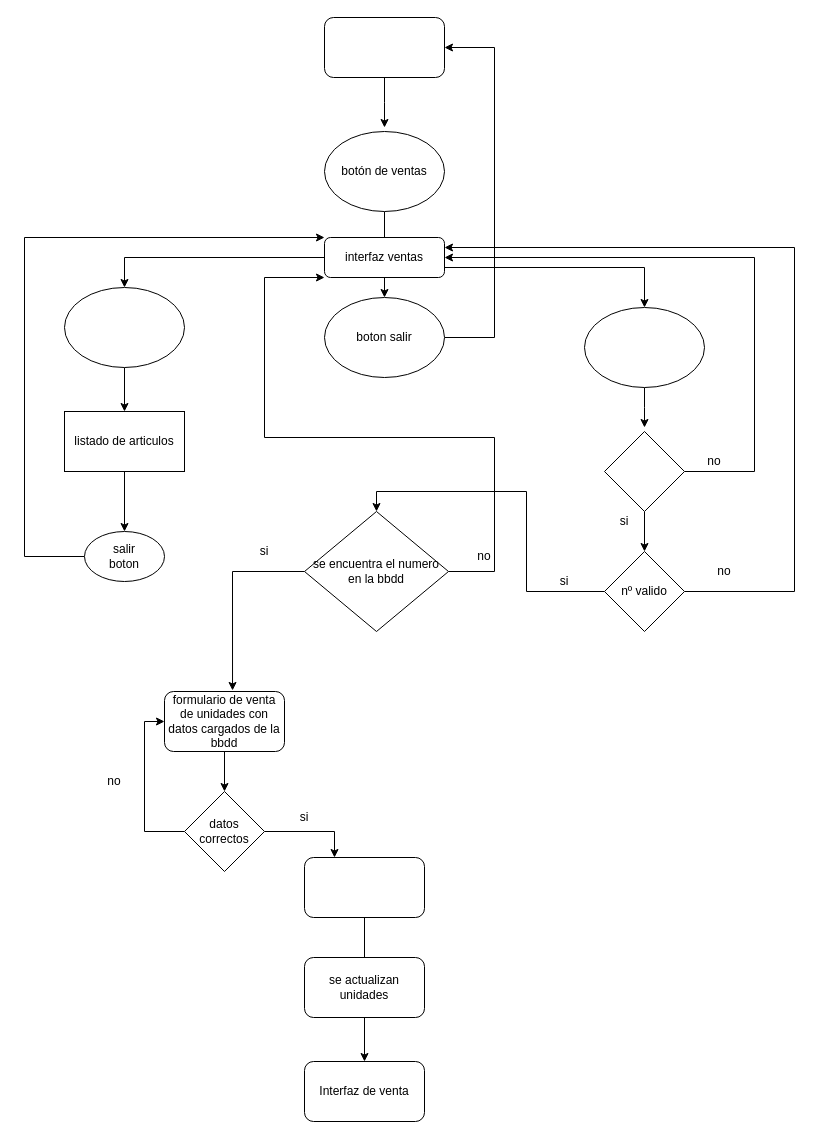
Image size: 820x1139. Some labels were removed from this diagram. The shapes that lost their labels are listed below. From the top down, each one's centre as x and y in pixels, then its label:
At pixel 384 47: "Interfaz principal".
At pixel 124 327: "boton listado".
At pixel 644 347: "boton venta de articulos".
At pixel 644 471: "añadido nº referencia".
At pixel 364 887: "venta realizada con existo".
